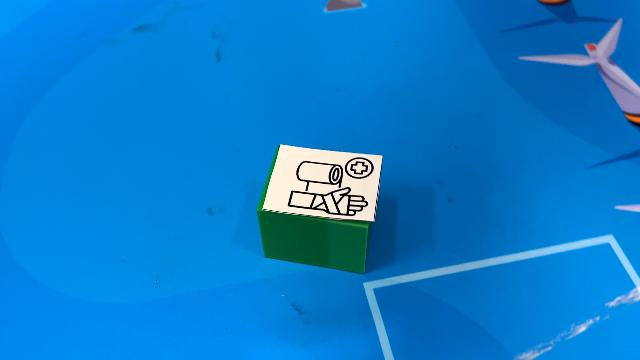bandage: (256, 142, 384, 274)
